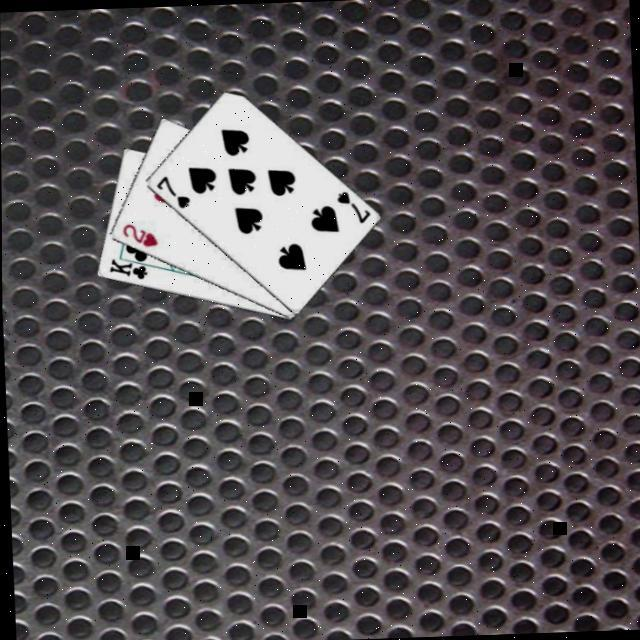2H: (120, 217, 161, 248)
7S: (153, 170, 193, 209), (335, 186, 374, 225)
KC: (106, 250, 156, 280)
